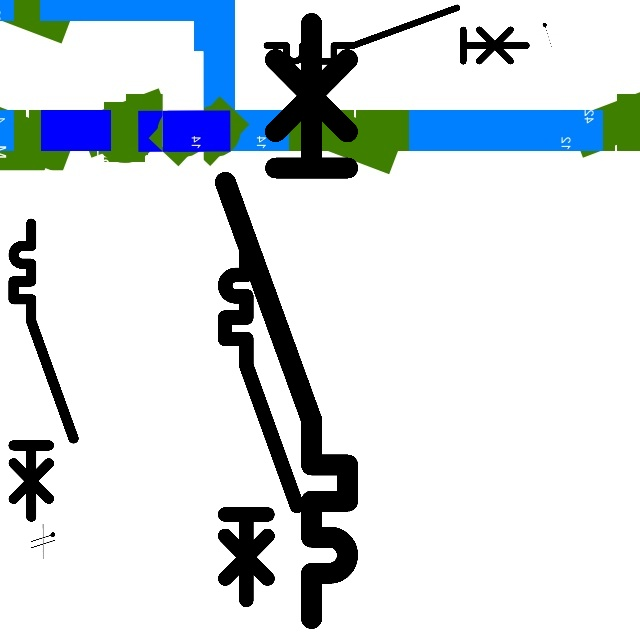interruptor_termomagnetico: (210, 8, 363, 634), (216, 239, 306, 609), (6, 216, 81, 524), (260, 1, 533, 68)
